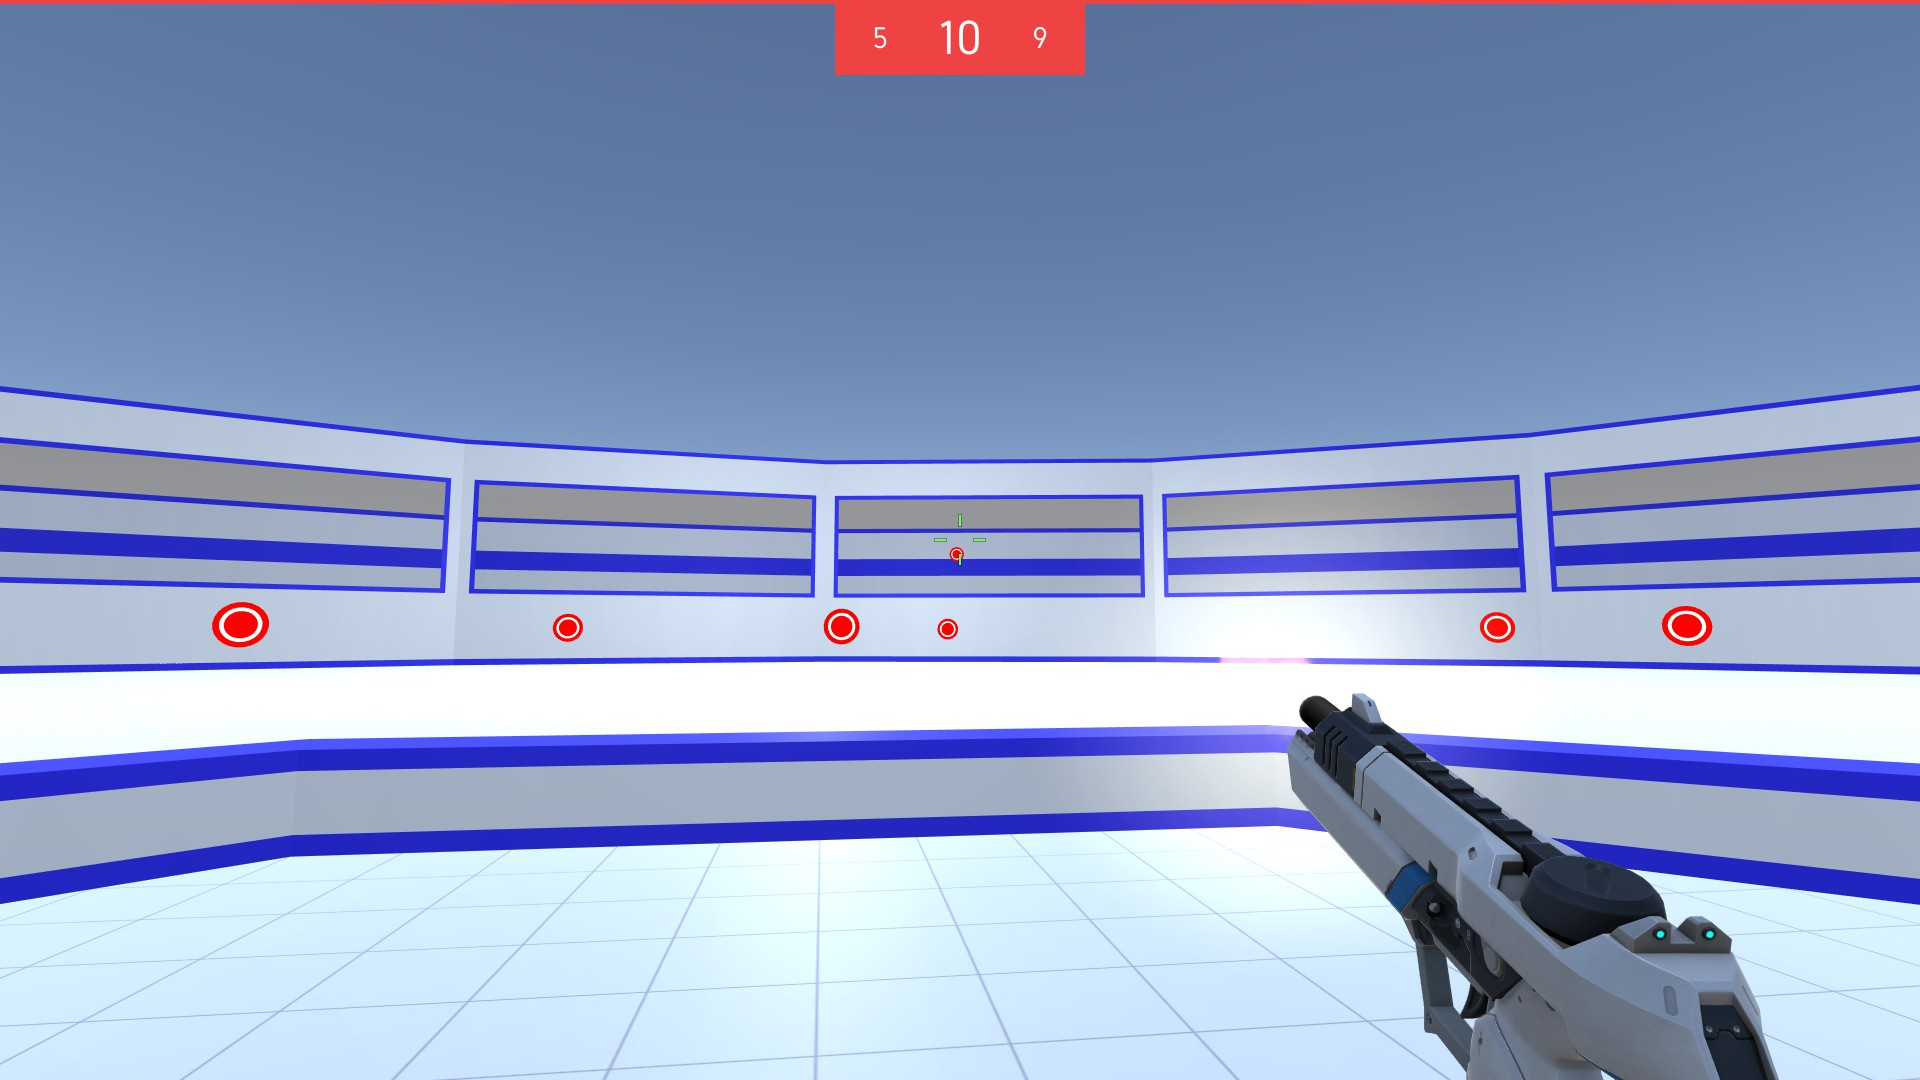target: (208, 601, 274, 647), (1660, 604, 1717, 647), (822, 609, 862, 644), (1477, 609, 1515, 642), (551, 612, 585, 641), (935, 618, 960, 641), (948, 545, 967, 563)
